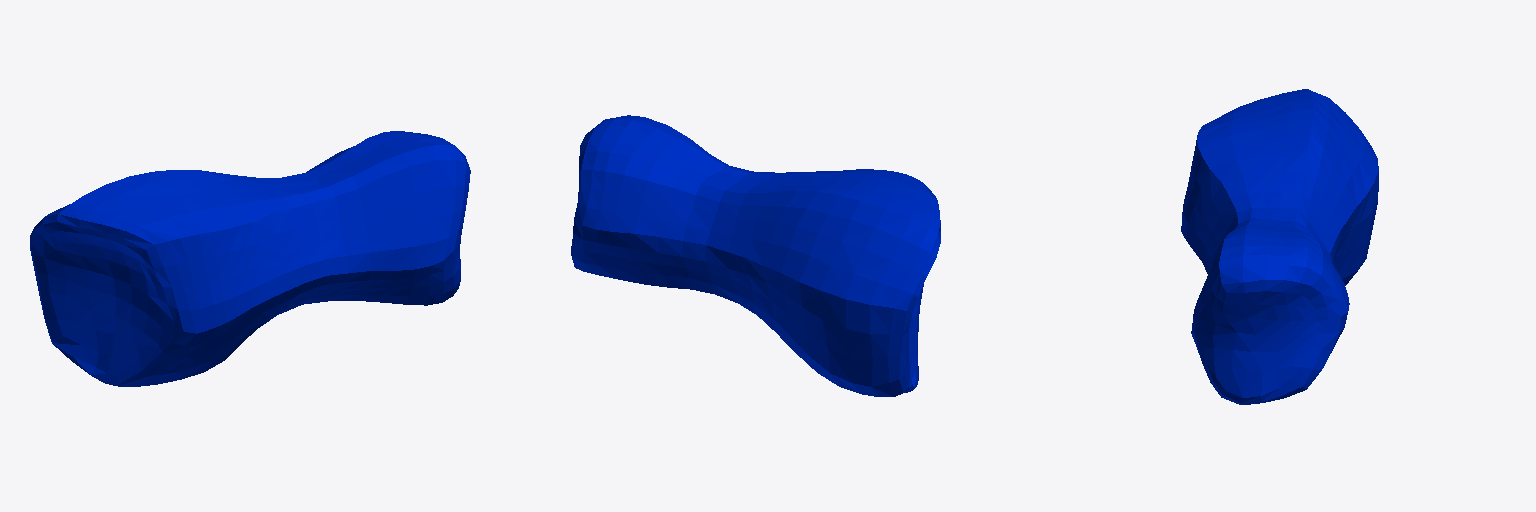
The model's file is L_U_Arm.obj.
3 renders of one model, left to right at view 1: azimuth 30°, elevation 25°; view 2: azimuth 150°, elevation 25°; view 3: azimuth 270°, elevation 25°, orthographic.
Visible parts, largest first — view 1: L_U_Arm_Alpha_Surface.012; view 2: L_U_Arm_Alpha_Surface.012; view 3: L_U_Arm_Alpha_Surface.012.
Part boxes in pixels (x1,y1,x2,y2): L_U_Arm_Alpha_Surface.012: (30,131,470,386); L_U_Arm_Alpha_Surface.012: (571,115,940,396); L_U_Arm_Alpha_Surface.012: (1181,89,1378,404).
Size of the model in its own units: 0.2959 by 0.1392 by 0.1325.